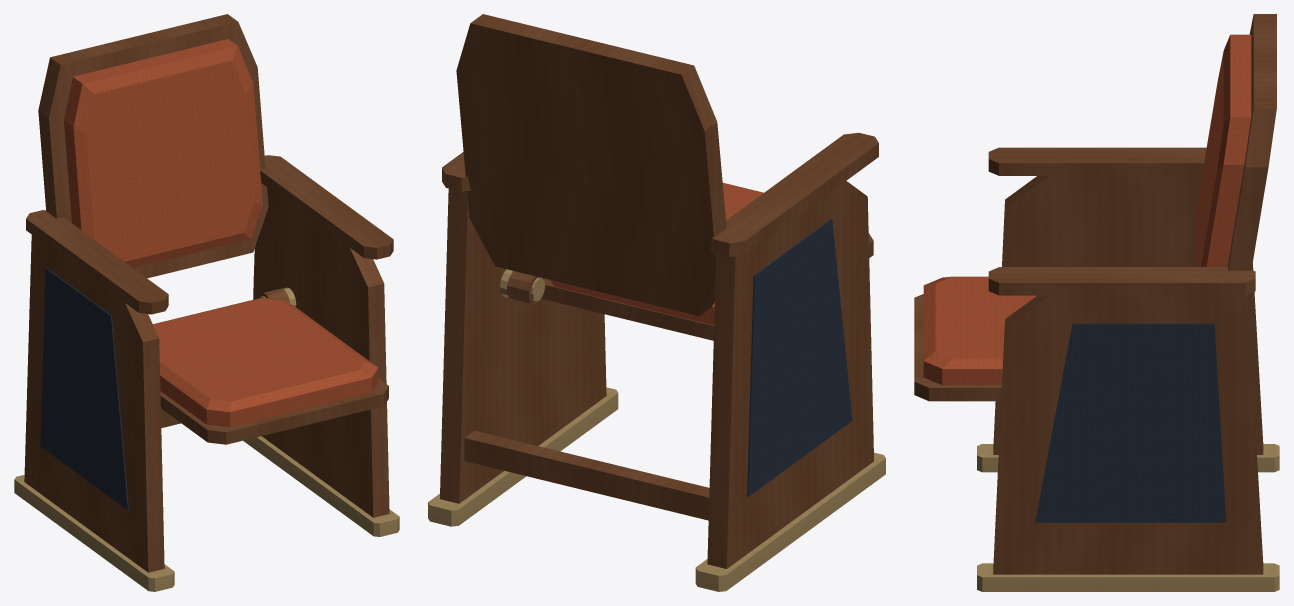
File: AST-CUL-003.glb
The picture shows the model from 3 angles, left to right: view 1: azimuth 30°, elevation 25°; view 2: azimuth 150°, elevation 25°; view 3: azimuth 270°, elevation 25°; orthographic projection. The views are drawn at different scales.
Visible parts, largest first — view 1: AST-CUL-003__static__warm_walnut, AST-CUL-003__static__auditorium_amber_velvet, AST-CUL-003__PAN_HINGE_X__auditorium_amber_velvet, AST-CUL-003__static__auditorium_navy_fibre, AST-CUL-003__static__champagne_metal, AST-CUL-003__PAN_HINGE_X__warm_walnut; view 2: AST-CUL-003__static__warm_walnut, AST-CUL-003__static__auditorium_navy_fibre, AST-CUL-003__static__champagne_metal, AST-CUL-003__PAN_HINGE_X__warm_walnut, AST-CUL-003__PAN_HINGE_X__auditorium_amber_velvet; view 3: AST-CUL-003__static__warm_walnut, AST-CUL-003__static__auditorium_navy_fibre, AST-CUL-003__PAN_HINGE_X__auditorium_amber_velvet, AST-CUL-003__static__auditorium_amber_velvet, AST-CUL-003__static__champagne_metal, AST-CUL-003__PAN_HINGE_X__warm_walnut.
Part boxes in pixels (x1,y1,x2,y2): AST-CUL-003__static__warm_walnut: (24,14,393,572); AST-CUL-003__static__auditorium_amber_velvet: (64,39,262,267); AST-CUL-003__PAN_HINGE_X__auditorium_amber_velvet: (153,297,378,427); AST-CUL-003__static__auditorium_navy_fibre: (40,268,128,510); AST-CUL-003__static__champagne_metal: (14,287,399,591); AST-CUL-003__PAN_HINGE_X__warm_walnut: (160,288,388,444); AST-CUL-003__static__warm_walnut: (440,14,878,568); AST-CUL-003__static__auditorium_navy_fibre: (747,219,852,496); AST-CUL-003__static__champagne_metal: (428,269,885,591); AST-CUL-003__PAN_HINGE_X__warm_walnut: (507,233,873,340); AST-CUL-003__PAN_HINGE_X__auditorium_amber_velvet: (550,183,763,325); AST-CUL-003__static__warm_walnut: (988,14,1276,574); AST-CUL-003__static__auditorium_navy_fibre: (1035,323,1226,522); AST-CUL-003__PAN_HINGE_X__auditorium_amber_velvet: (923,276,1036,385); AST-CUL-003__static__auditorium_amber_velvet: (1194,34,1251,266); AST-CUL-003__static__champagne_metal: (977,444,1279,591); AST-CUL-003__PAN_HINGE_X__warm_walnut: (914,294,1001,401).
Size of the model in its own units: 0.688 by 1.1 by 0.785.
Materials: 4 (4 with a texture image).
